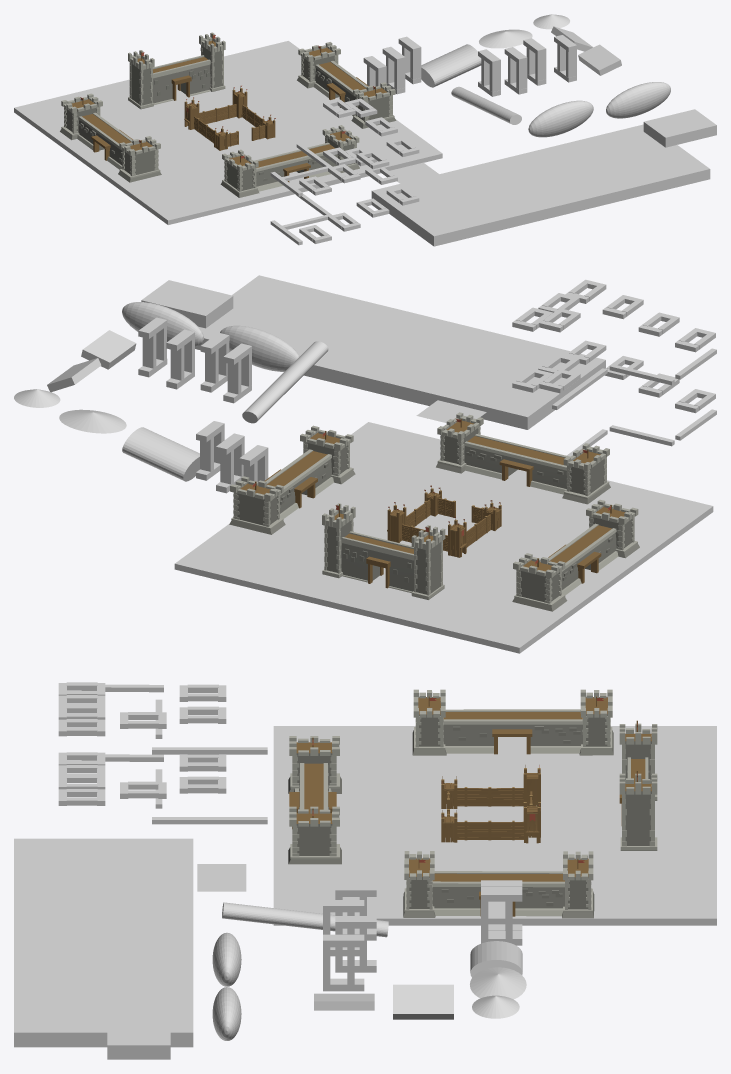
Rendered from maptest1.glb.
3 renders of one model, top to bottom at view 1: azimuth 30°, elevation 25°; view 2: azimuth 150°, elevation 25°; view 3: azimuth 270°, elevation 25°, orthographic. The views are drawn at different scales.
Visible parts, largest first — view 1: 立方體, 立方體.011, part2, WallTowers_Door_SecondAge, WallTowers_Door_SecondAge.003, WallTowers_Door_SecondAge.004, WallTowers_Door_SecondAge.001, 立方體.020, WonderWalls_FirstAge, 立方體.012, 立方體.004; view 2: 立方體, 立方體.011, part2, WallTowers_Door_SecondAge.004, WallTowers_Door_SecondAge, WallTowers_Door_SecondAge.003, WallTowers_Door_SecondAge.001, 立方體.020, WonderWalls_FirstAge, 立方體.012; view 3: 立方體, 立方體.011, part2, WallTowers_Door_SecondAge.003, WallTowers_Door_SecondAge.001, 立方體.020, WallTowers_Door_SecondAge.004, WonderWalls_FirstAge, WallTowers_Door_SecondAge, 立方體.012, 立方體.001, 立方體.009 (+5 smaller).
Part boxes in pixels (x1,y1,x2,y2): 立方體: (14,41,442,224); 立方體.011: (371,124,710,246); part2: (363,14,716,147); WallTowers_Door_SecondAge: (128,32,225,109); WallTowers_Door_SecondAge.003: (60,93,161,182); WallTowers_Door_SecondAge.004: (220,125,359,197); WallTowers_Door_SecondAge.001: (297,42,396,128); 立方體.020: (270,98,419,196); WonderWalls_FirstAge: (184,85,275,150); 立方體.012: (389,162,438,183); 立方體.004: (356,198,389,217); 立方體: (174,422,713,653); 立方體.011: (195,275,605,429); part2: (14,280,328,493); WallTowers_Door_SecondAge.004: (436,412,610,504); WallTowers_Door_SecondAge: (322,503,445,599); WallTowers_Door_SecondAge.003: (512,499,639,611); WallTowers_Door_SecondAge.001: (229,425,355,534); 立方體.020: (512,279,716,409); WonderWalls_FirstAge: (387,485,501,557); 立方體.012: (416,400,486,422); 立方體: (273,726,716,925); 立方體.011: (14,838,193,1047); part2: (107,880,526,1059); WallTowers_Door_SecondAge.003: (412,689,613,755); WallTowers_Door_SecondAge.001: (403,851,594,918); 立方體.020: (58,682,267,754); WallTowers_Door_SecondAge.004: (288,736,341,864); WonderWalls_FirstAge: (441,765,540,843); WallTowers_Door_SecondAge: (619,720,657,850); 立方體.012: (197,864,246,891); 立方體.001: (152,817,267,824); 立方體.009: (179,776,226,793).
Bounding box in the file's own units: 60.16 × 11.87 × 51.85.
